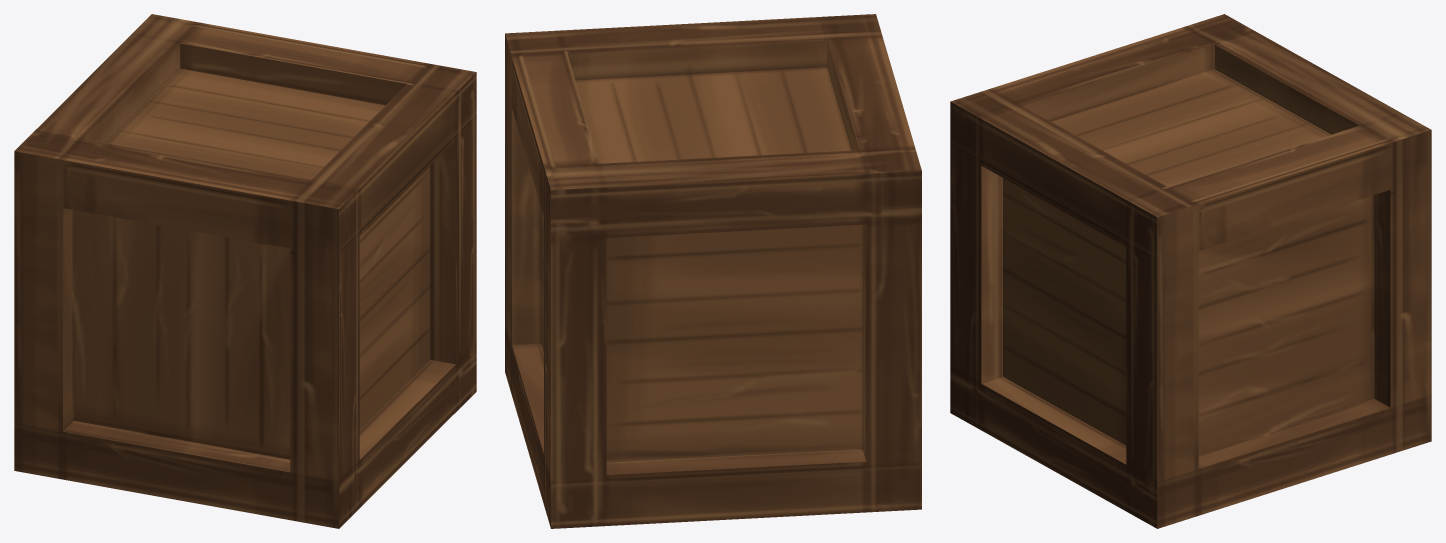
The model's file is Crate.fbx.
3 renders of one model, left to right at view 1: azimuth 30°, elevation 25°; view 2: azimuth 150°, elevation 25°; view 3: azimuth 270°, elevation 25°, orthographic. The views are drawn at different scales.
Parts seen in each view (by area): view 1: Crate; view 2: Crate; view 3: Crate.
Part boxes in pixels (x1,y1,x2,y2): Crate: [14, 14, 476, 528]; Crate: [505, 14, 921, 528]; Crate: [950, 14, 1431, 528].
Bounding box in the file's own units: 6.59 × 4.71 × 6.59.
